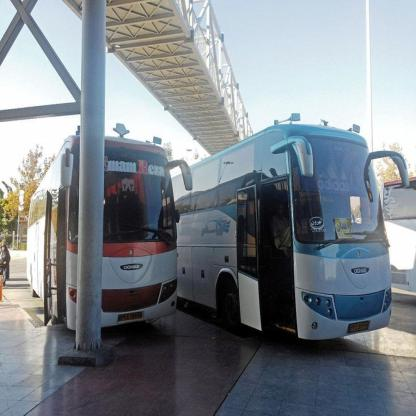Bus: (171, 136, 407, 339), (26, 125, 188, 328)
